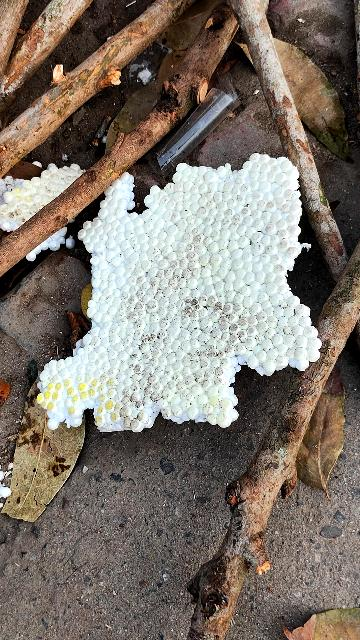cocksheet: (66, 162, 328, 451)
